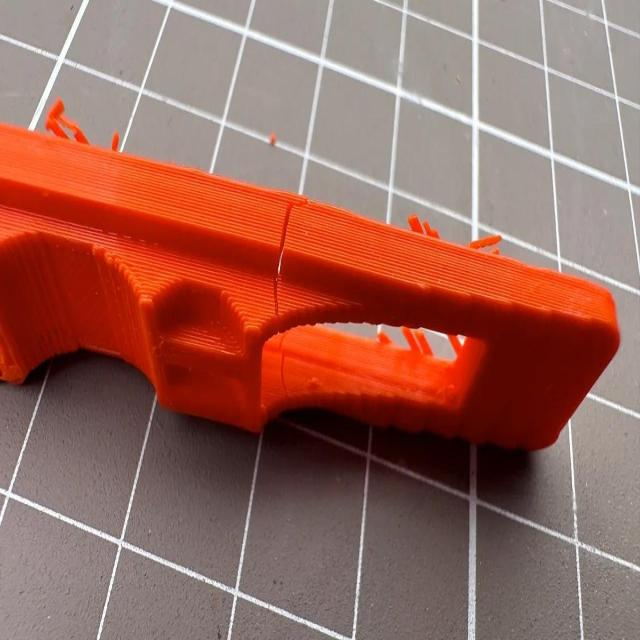cracking: (267, 206, 293, 391)
